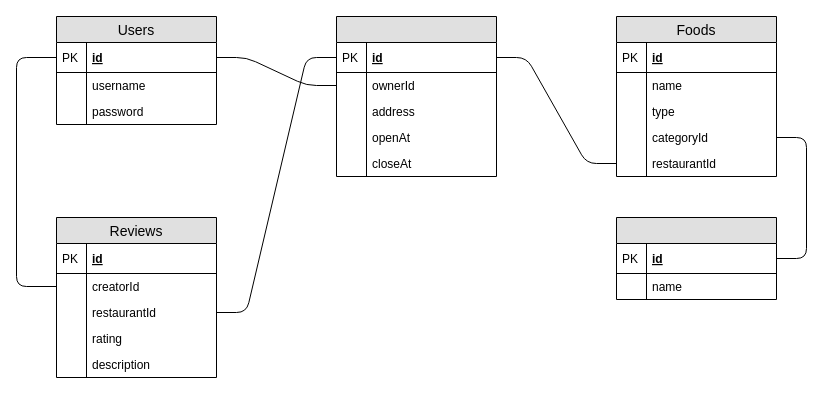
Some shapes in this 823 by 394 pixel diagram are drawn without their labels. Each missing label, with the box of its shape:
Categories: (616, 216, 776, 300)
Restaurants: (336, 16, 496, 176)
